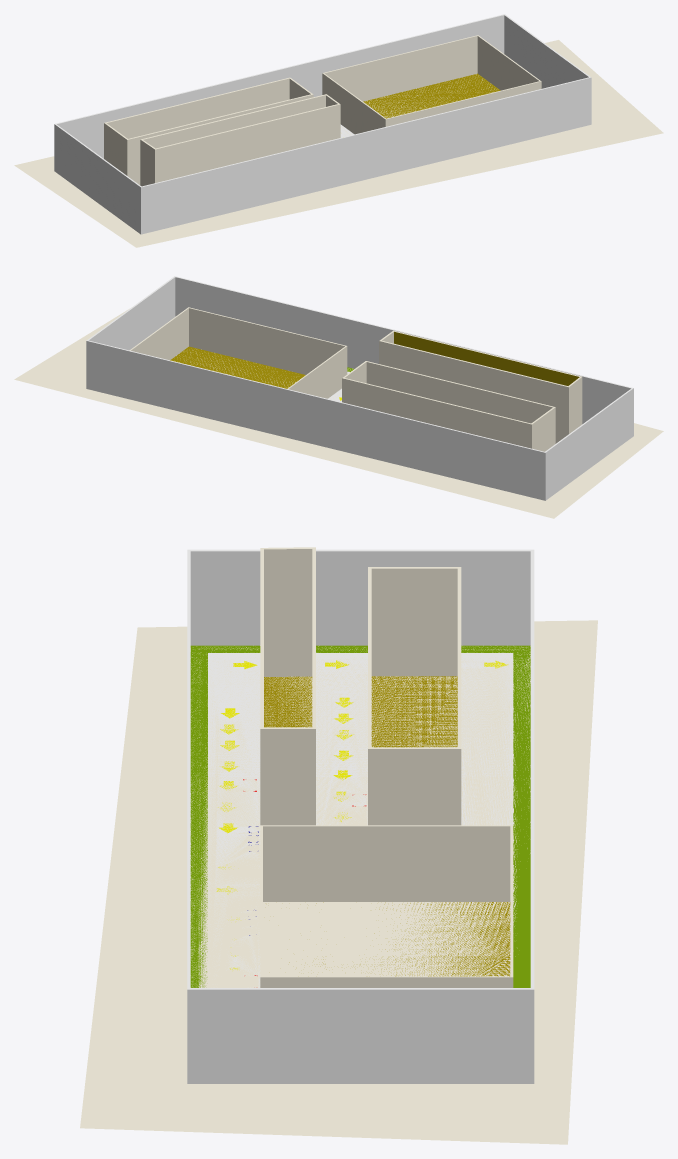
Rendered from layout.dae.
The picture shows the model from 3 angles, top to bottom: view 1: azimuth 30°, elevation 25°; view 2: azimuth 150°, elevation 25°; view 3: azimuth 270°, elevation 25°; orthographic projection. The views are drawn at different scales.
Visible parts, largest first — view 1: instance_0.110, instance_0.211, instance_0.206, instance_0.204, instance_0.209, instance_0.208, instance_0.203, instance_0.207; view 2: instance_0.110, instance_0.211, instance_0.206, instance_0.203, instance_0.204, instance_0.205, instance_0.208, instance_0.209; view 3: instance_0.211, instance_0.110, instance_0.180, instance_0.140, instance_0.204, instance_0.203, instance_0.206, instance_0.207, instance_0.202, instance_0.208, instance_0.209, instance_0.205.
Boxes of the visible parts, left/top/right/bottom form: instance_0.110: left=54, top=14, right=591, bottom=234; instance_0.211: left=14, top=36, right=663, bottom=247; instance_0.206: left=140, top=94, right=340, bottom=186; instance_0.204: left=107, top=78, right=310, bottom=138; instance_0.209: left=322, top=35, right=541, bottom=134; instance_0.208: left=363, top=73, right=500, bottom=118; instance_0.203: left=104, top=77, right=313, bottom=184; instance_0.207: left=143, top=95, right=337, bottom=148; instance_0.110: left=86, top=276, right=633, bottom=500; instance_0.211: left=14, top=308, right=663, bottom=518; instance_0.206: left=379, top=330, right=582, bottom=443; instance_0.203: left=342, top=361, right=555, bottom=451; instance_0.204: left=345, top=362, right=552, bottom=423; instance_0.205: left=394, top=331, right=579, bottom=385; instance_0.208: left=170, top=346, right=305, bottom=388; instance_0.209: left=129, top=307, right=347, bottom=398; instance_0.211: left=80, top=620, right=597, bottom=1144; instance_0.110: left=187, top=549, right=534, bottom=1083; instance_0.180: left=208, top=653, right=513, bottom=987; instance_0.140: left=190, top=645, right=530, bottom=987; instance_0.204: left=371, top=568, right=457, bottom=676; instance_0.203: left=368, top=567, right=461, bottom=825; instance_0.206: left=260, top=547, right=315, bottom=825; instance_0.207: left=264, top=549, right=312, bottom=676; instance_0.202: left=371, top=676, right=457, bottom=747; instance_0.208: left=289, top=902, right=510, bottom=976; instance_0.209: left=260, top=825, right=513, bottom=987; instance_0.205: left=264, top=676, right=312, bottom=727.
Size of the model in its own units: 35.06 by 14.64 by 3.98.
